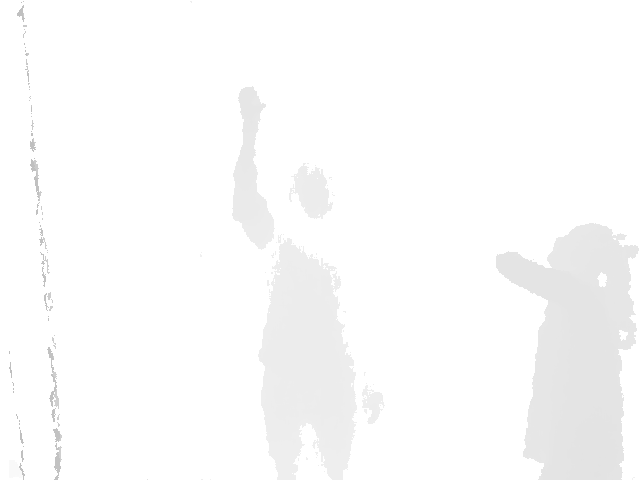hand: (238, 86, 266, 131)
head: (548, 222, 640, 291), (288, 163, 331, 219)
person: (231, 86, 385, 480), (495, 222, 640, 480)
